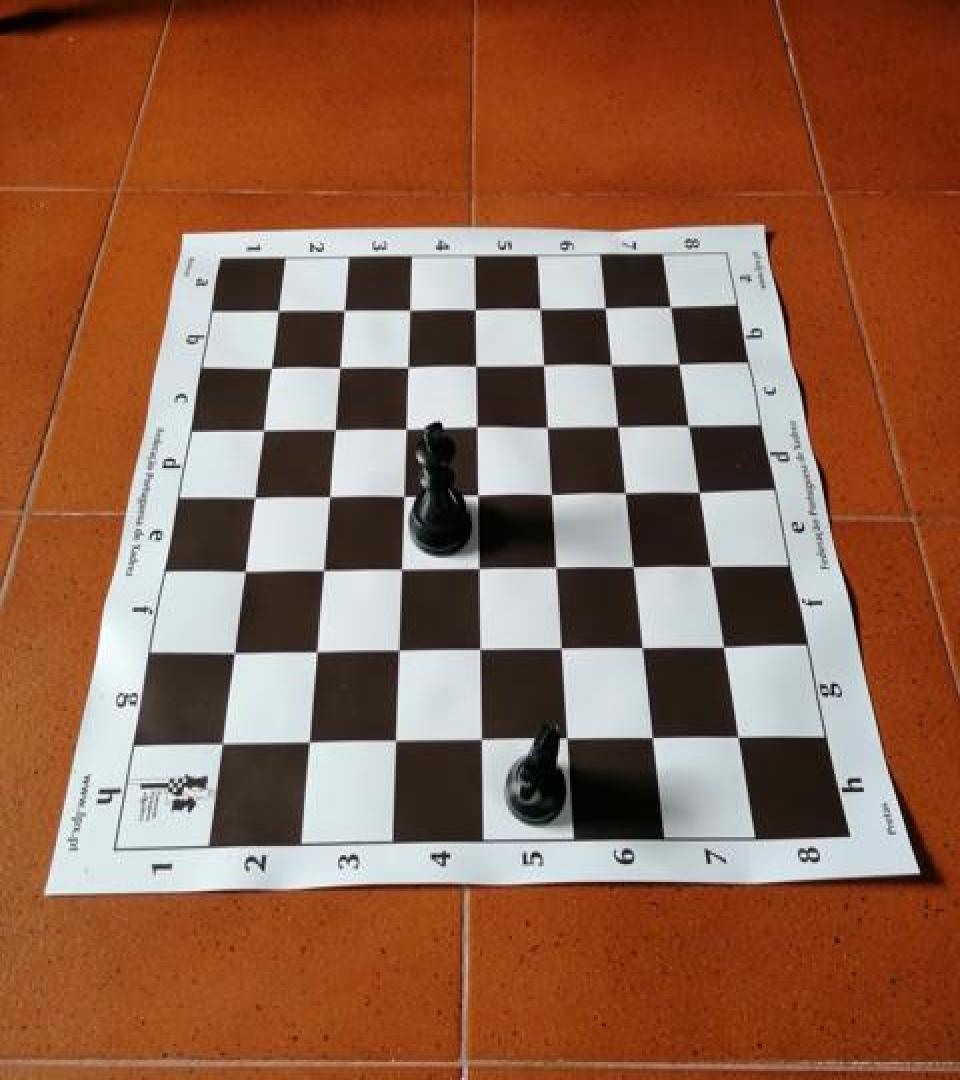xcorner: (654, 288, 684, 322), (589, 289, 619, 323), (524, 289, 554, 323), (459, 290, 489, 324), (395, 291, 425, 325), (663, 344, 693, 378), (595, 345, 625, 379), (528, 346, 558, 380), (460, 346, 490, 380), (393, 348, 423, 382), (325, 348, 355, 382), (258, 350, 288, 384), (673, 406, 703, 440), (602, 407, 632, 441), (532, 407, 562, 441), (461, 408, 491, 442), (390, 410, 420, 444), (320, 410, 350, 444), (249, 410, 279, 444), (684, 474, 714, 508), (462, 476, 492, 510), (388, 477, 418, 511), (314, 478, 344, 512), (240, 478, 270, 512), (696, 548, 726, 582), (618, 549, 648, 583), (540, 550, 570, 584), (463, 550, 493, 584), (385, 551, 415, 585), (307, 552, 337, 586), (230, 552, 260, 586), (710, 630, 740, 664), (628, 631, 658, 665), (546, 632, 576, 666), (464, 632, 494, 666), (382, 633, 412, 667), (300, 634, 330, 668), (725, 722, 755, 756), (638, 722, 668, 756), (551, 723, 581, 757), (378, 726, 408, 760), (292, 726, 322, 760), (206, 726, 236, 760), (330, 293, 360, 326), (266, 293, 296, 326), (610, 475, 640, 508), (536, 475, 566, 508), (218, 636, 248, 669), (465, 725, 495, 758)
